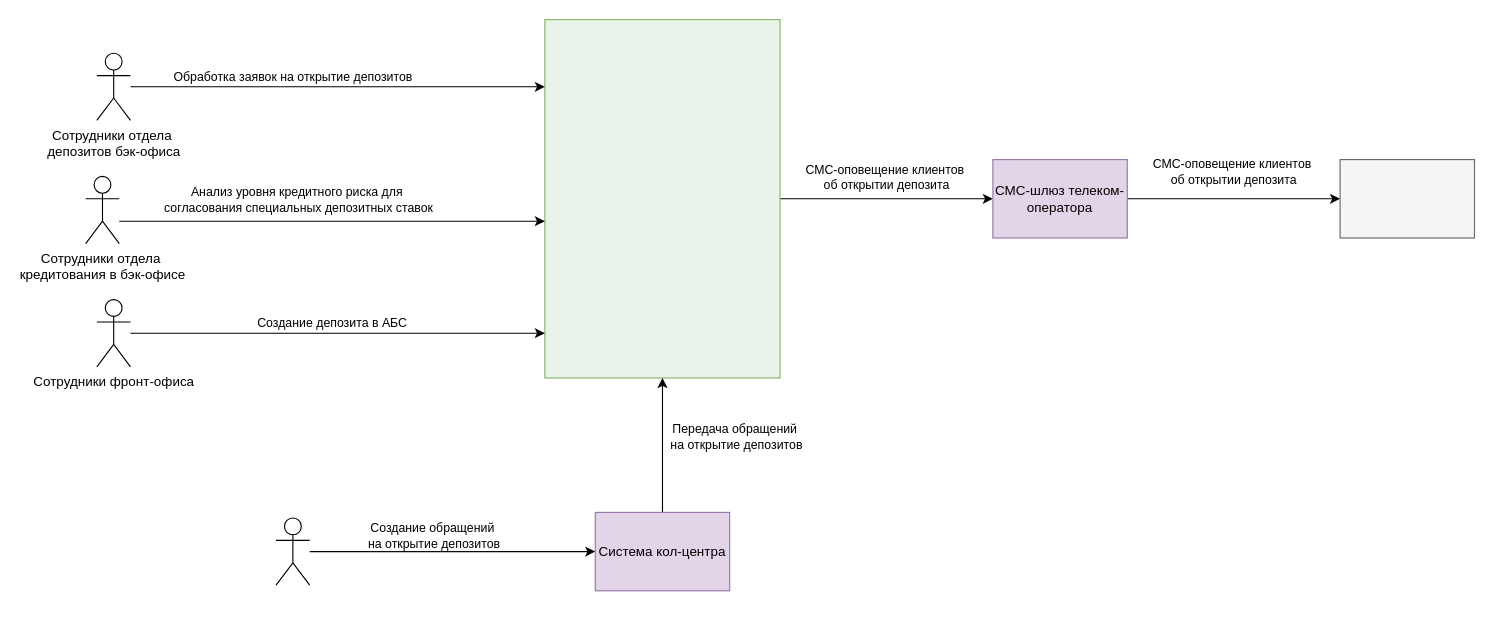
Image size: 1494x628. Some labels were removed from this diagram. Each missing label, with the centre of its shape:
"АБС" belongs at point 662,198.
"Сотрудники кол-центра" belongs at point 292,551.
"телеком-оператор" belongs at point 1406,198.
